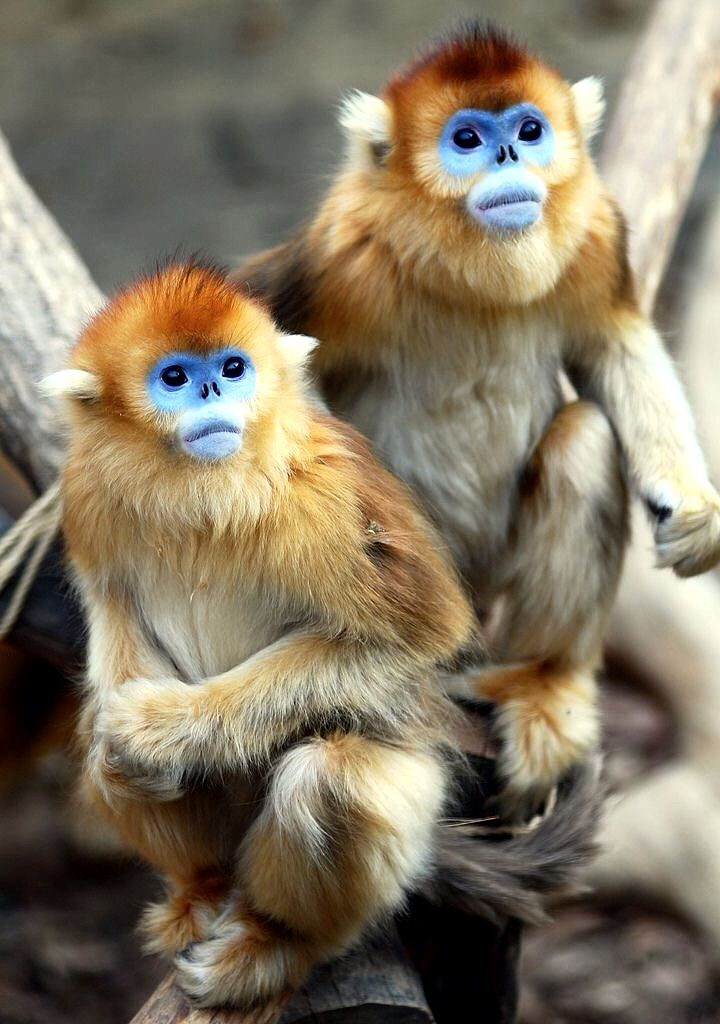GoldenSnub-Nosed: (296, 28, 720, 724), (36, 294, 475, 932)
